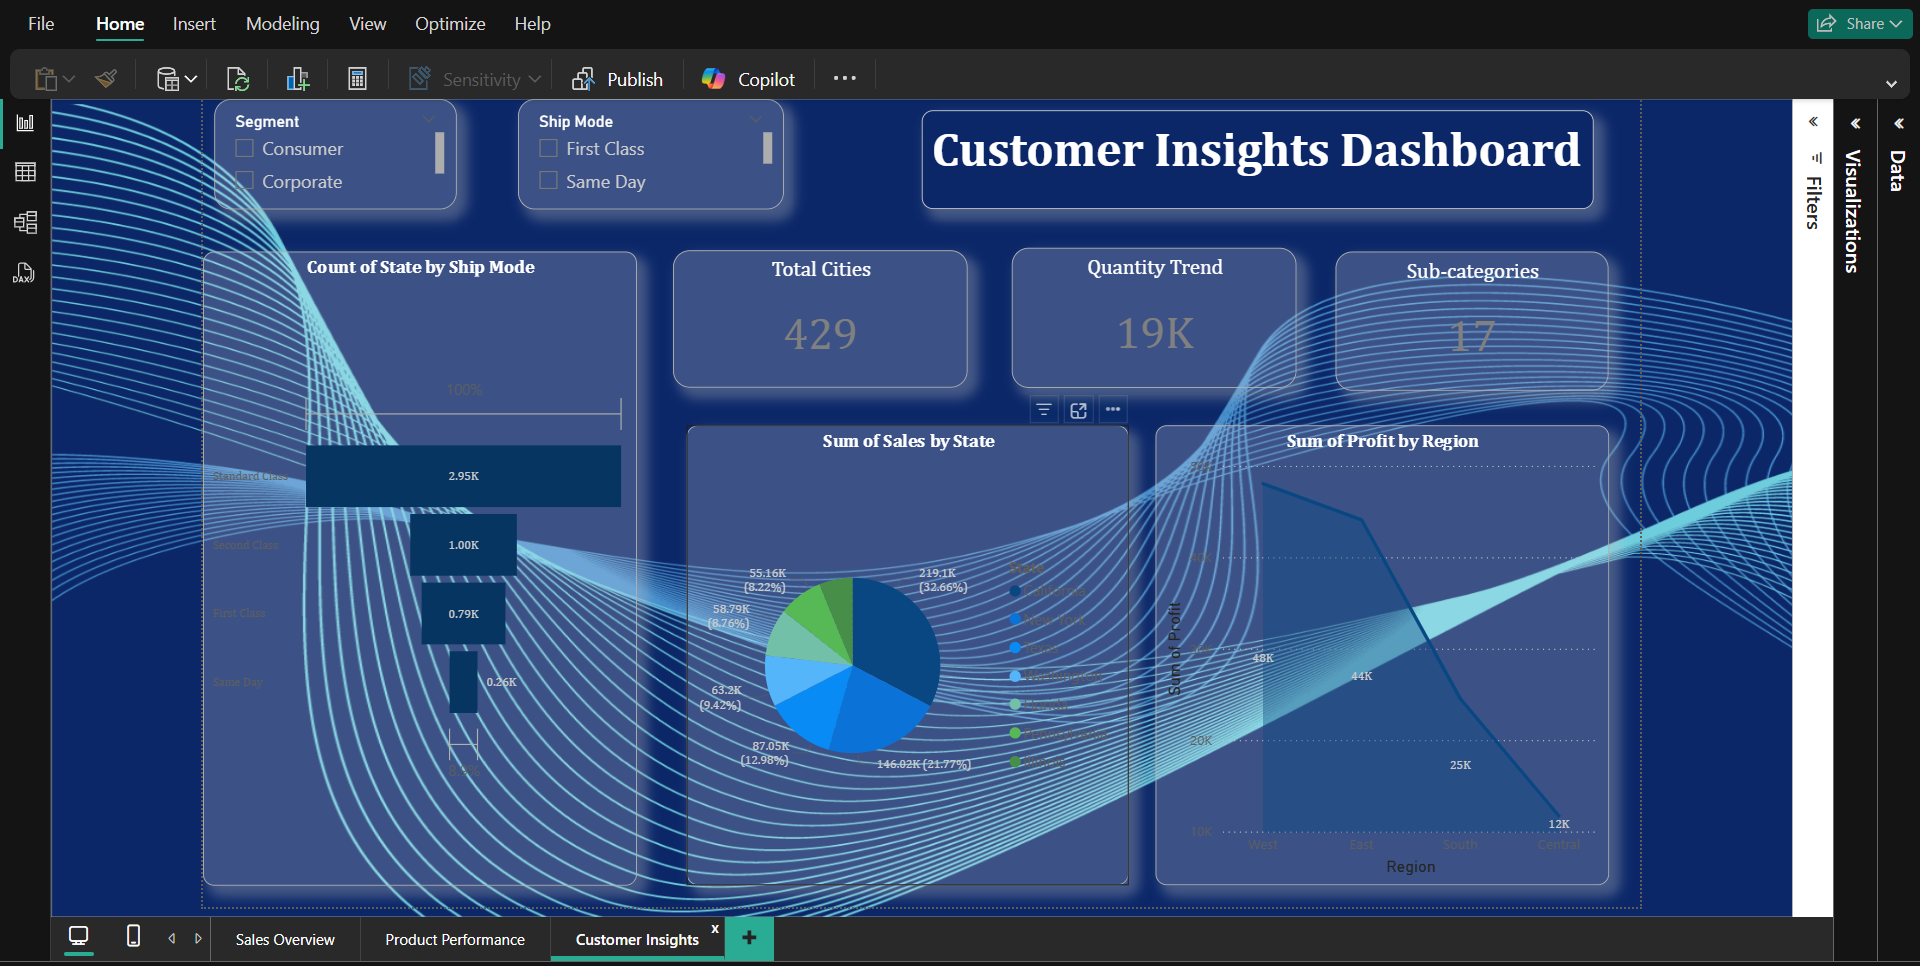

The page's visual inventory and layout, read from the dashboard file:
{"tool":"powerbi","page":{"name":"Customer Insights","canvas":[1280,720],"ordinal":2},"visuals":[{"type":"slicer","fields":{"Values":["Orders.Segment"]},"box":[9.8,0,216,98.2],"z":0},{"type":"slicer","fields":{"Values":["Orders.Ship Mode"]},"box":[281,0,236.8,98.2],"z":1000},{"type":"stackedAreaChart","fields":{"Category":["Orders.Region"],"Y":["Sum(Orders.Profit)"]},"box":[847.9,290.8,403.7,409.8],"z":2000},{"type":"pieChart","fields":{"Y":["Sum(Orders.Sales)"],"Category":["Orders.State"]},"box":[430.7,290.8,393.9,409.8],"z":3000},{"type":"funnel","fields":{"Category":["Orders.Ship Mode"],"Y":["CountNonNull(Orders.State)"]},"box":[0,136.2,386.5,564.4],"z":4000},{"type":"card","title":"Total Cities","fields":{"Values":["Count(Customers.City)"]},"box":[418.4,135,262.6,122.7],"z":5000},{"type":"card","title":"Quantity Trend","fields":{"Values":["Sum(Orders.Quantity)"]},"box":[720.2,132.5,254,125.2],"z":6000},{"type":"card","title":"Sub-categories","fields":{"Values":["Count(Orders.Sub-Category Hierarchy.Sub-Category)"]},"box":[1008.6,136.2,242.9,123.9],"z":7000},{"type":"textbox","box":[640.5,9.8,598.8,88.3],"z":8000}]}

Visuals, with their boxes on the page's 1280x720 design canvas (x1, y1, x2, y2). These are canvas units, not pixel positions in the 1920x966 screenshot, which may show the page scaled, cropped or inside an application window:
slicer - Orders.Segment: x1=10, y1=0, x2=226, y2=98
slicer - Orders.Ship Mode: x1=281, y1=0, x2=518, y2=98
stackedAreaChart - Orders.Region x Sum(Orders.Profit): x1=848, y1=291, x2=1252, y2=701
pieChart - Sum(Orders.Sales) x Orders.State: x1=431, y1=291, x2=825, y2=701
funnel - Orders.Ship Mode x CountNonNull(Orders.State): x1=0, y1=136, x2=386, y2=701
"Total Cities" card: x1=418, y1=135, x2=681, y2=258
"Quantity Trend" card: x1=720, y1=132, x2=974, y2=258
"Sub-categories" card: x1=1009, y1=136, x2=1252, y2=260
textbox: x1=640, y1=10, x2=1239, y2=98
